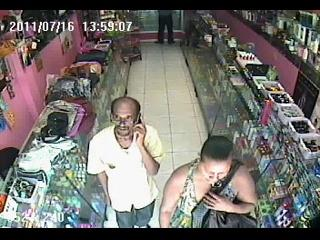Normal: (86, 97, 166, 228), (158, 135, 258, 228), (154, 10, 176, 45), (75, 50, 108, 66)
